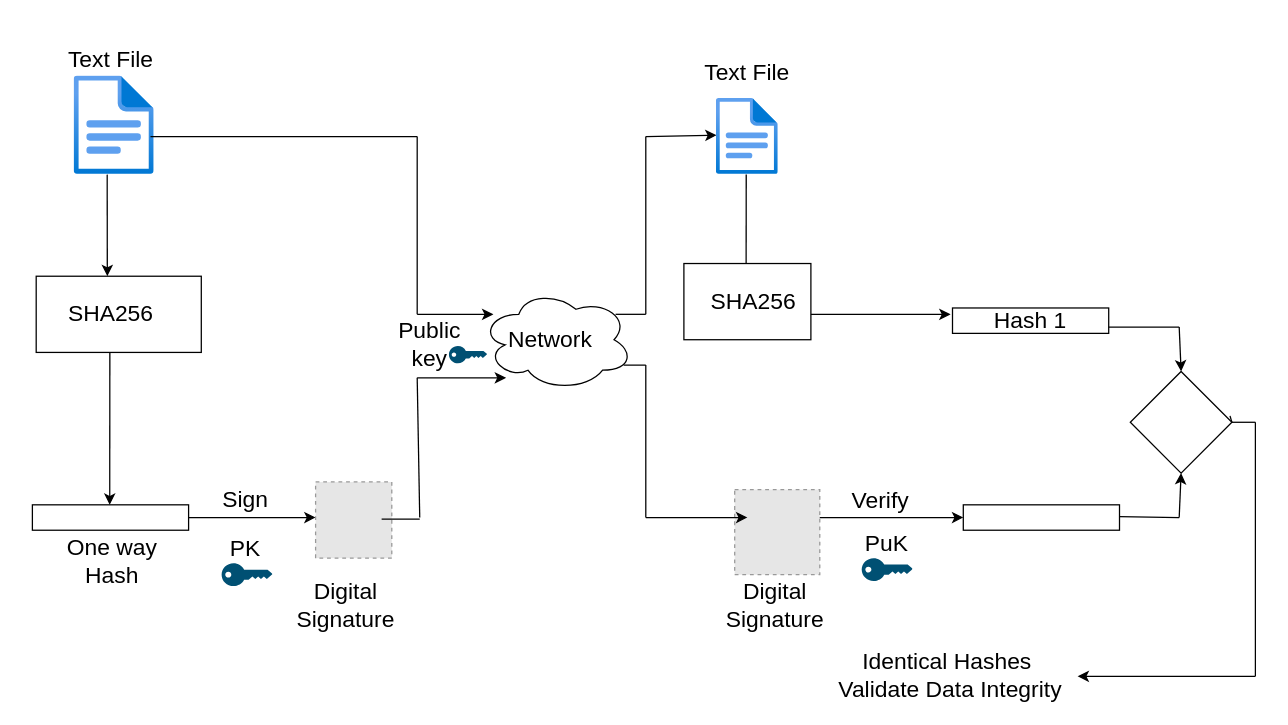
Image size: 1288x725. Some labels were removed from this diagram. Grey dashed boxes stand in for pictures. Each missing label, with the centre of its shape:
"Equal?" goes at (1180,421).
"Hash 2" goes at (1041,517).
